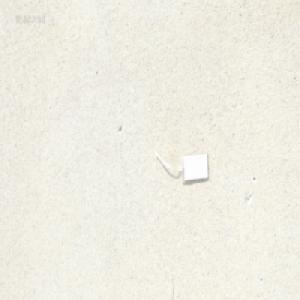LuggageTag: (153, 151, 209, 183)
